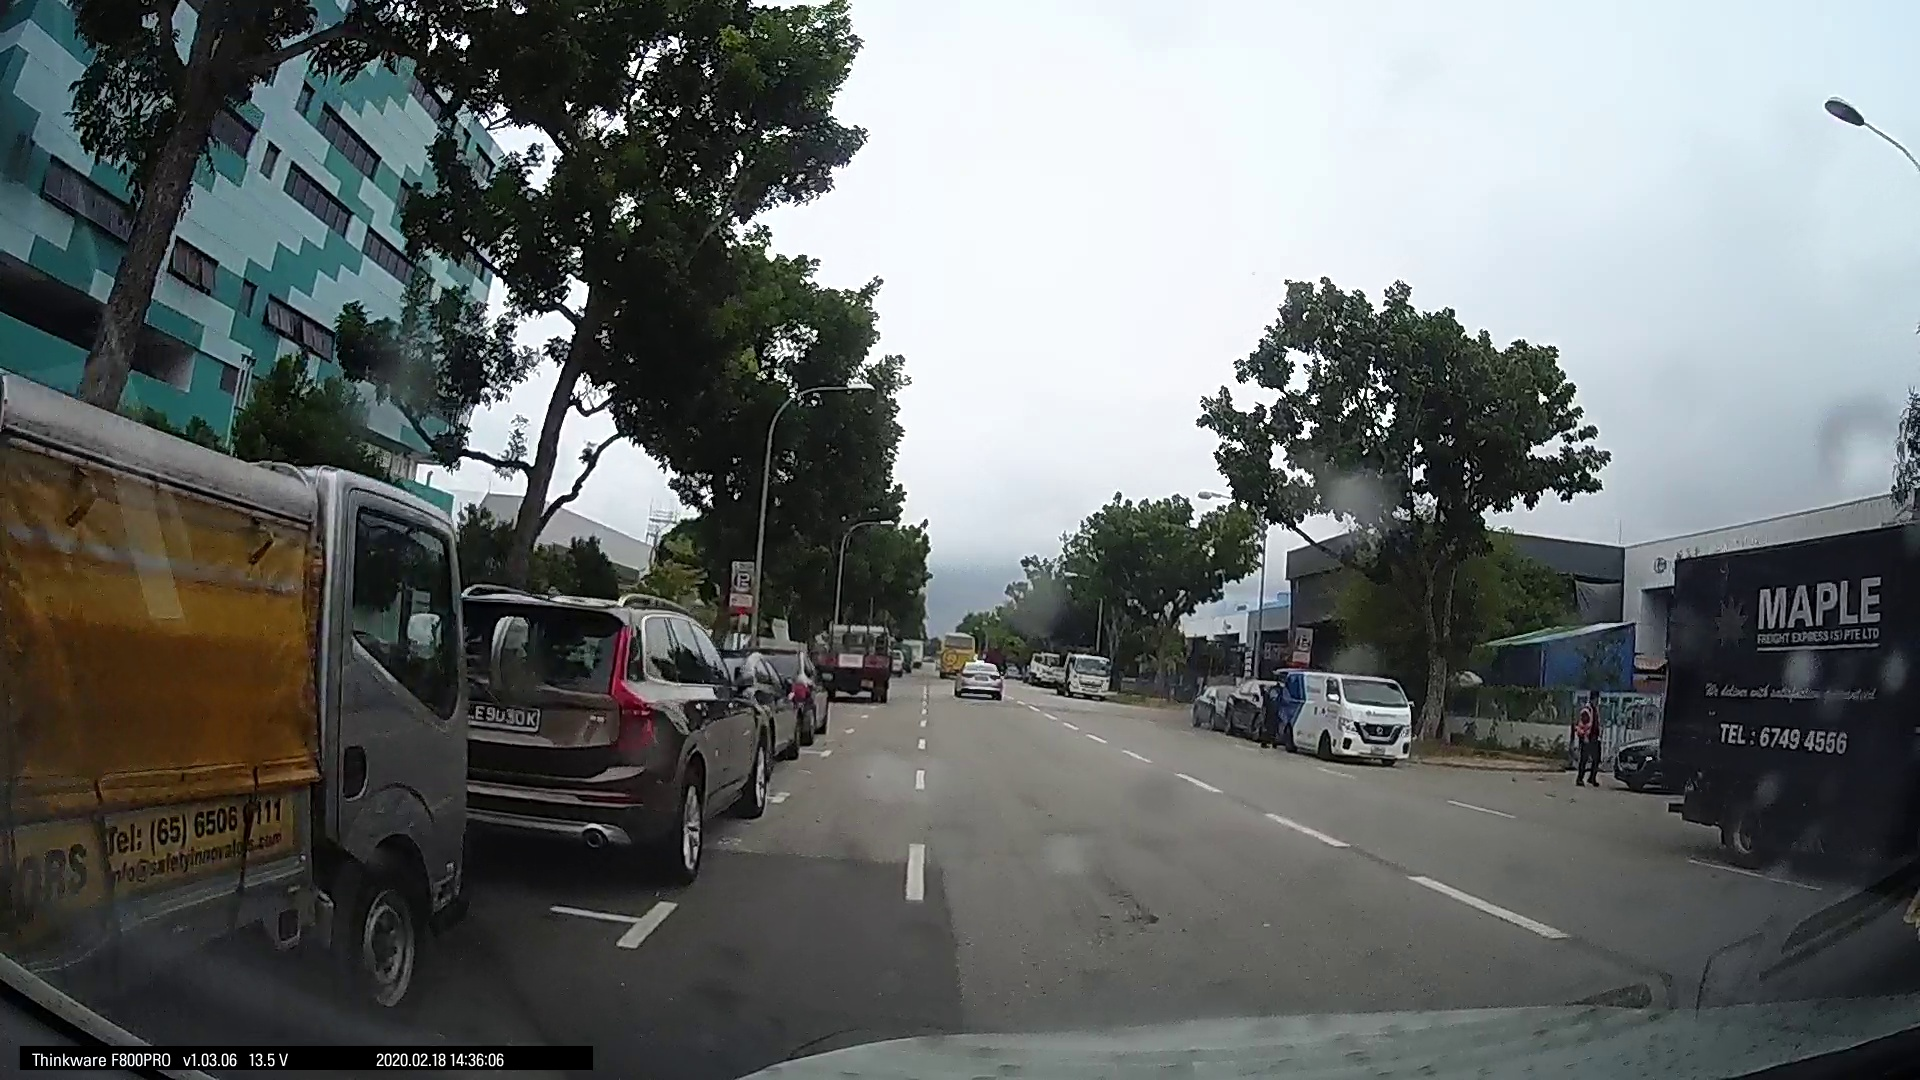Heavy Vehicle: (18, 407, 496, 1004), (1648, 517, 1919, 878), (818, 622, 893, 699)
Light Vehicle: (433, 584, 767, 880), (1276, 666, 1412, 766), (746, 637, 818, 757), (1054, 647, 1112, 698), (949, 655, 1001, 699)
